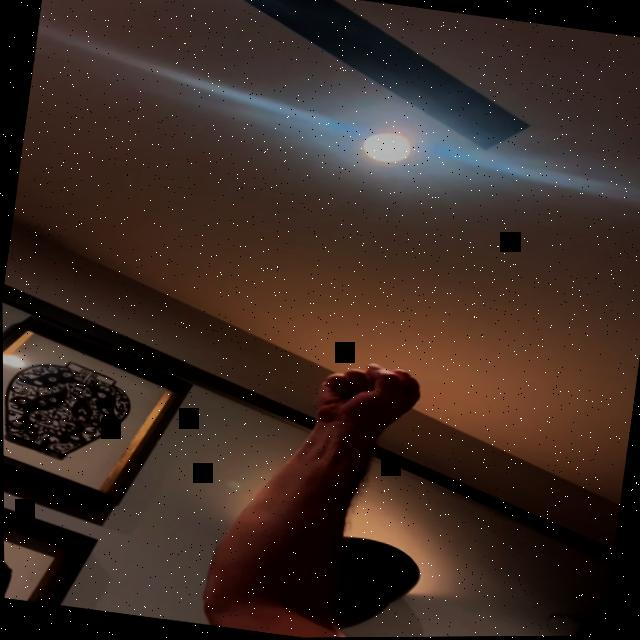Rock: (310, 356, 427, 435)
